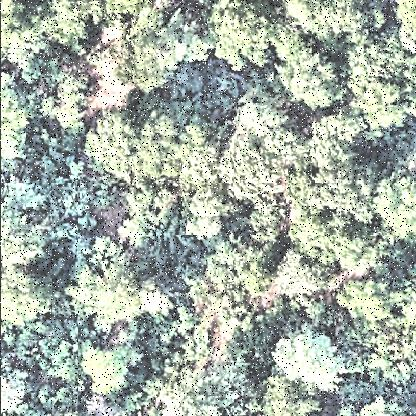tree-top: (84, 96, 224, 190), (218, 96, 308, 204), (2, 176, 56, 334), (114, 2, 202, 96), (77, 237, 151, 331), (345, 26, 407, 133), (155, 355, 260, 416), (2, 2, 86, 72), (307, 156, 382, 230), (271, 323, 348, 391), (277, 1, 379, 50), (302, 211, 376, 277), (219, 1, 272, 74), (374, 154, 416, 246), (273, 253, 339, 308), (285, 48, 343, 110), (2, 70, 38, 168), (209, 243, 267, 301), (307, 107, 361, 163), (76, 344, 138, 389), (174, 197, 227, 245), (342, 276, 392, 325), (2, 368, 42, 413), (249, 206, 287, 247), (394, 2, 416, 60)
